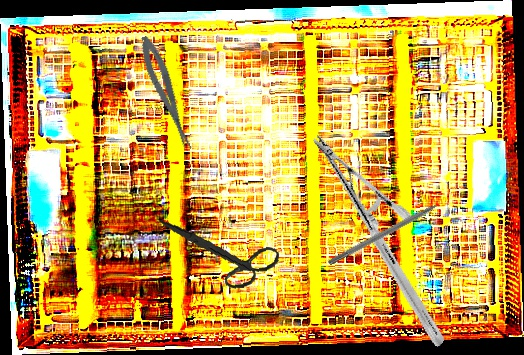Hook Surgical: (327, 194, 454, 268)
Iris Scissors: (159, 206, 283, 297)
Micro Scissor: (134, 33, 197, 154)
Needle Holder: (255, 133, 502, 348)
